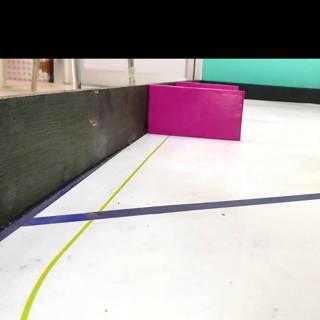xparking: (150, 87, 242, 137)
